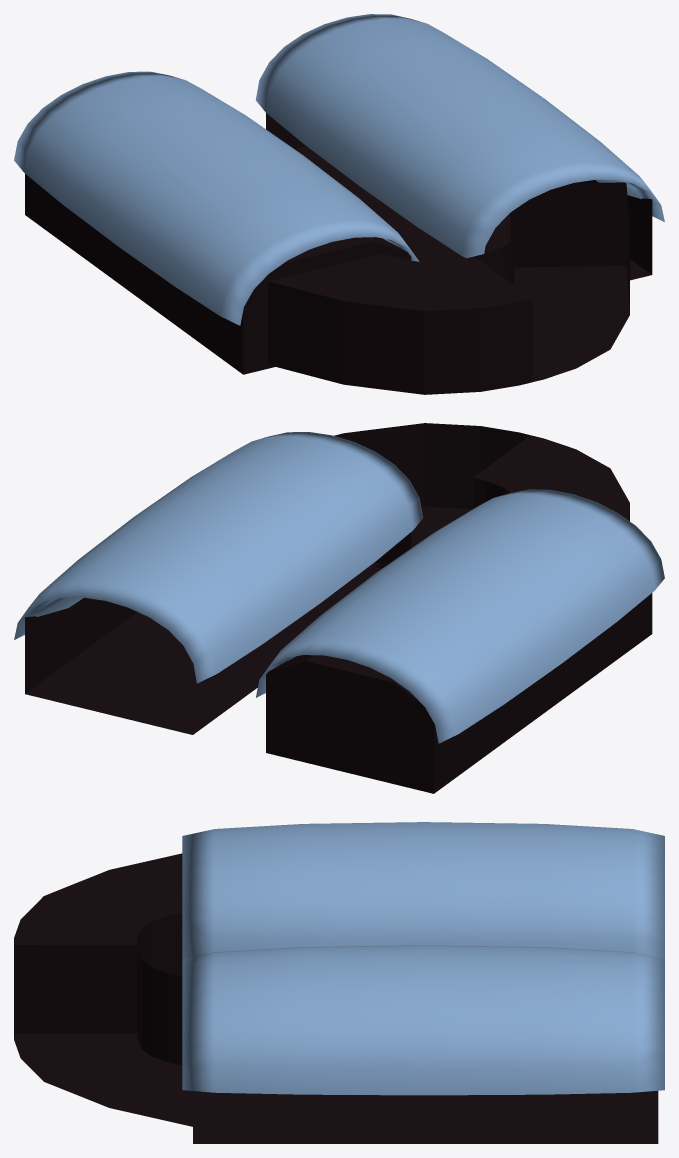
File: LargeWreck.glb
3 renders of one model, top to bottom at view 1: azimuth 30°, elevation 25°; view 2: azimuth 150°, elevation 25°; view 3: azimuth 270°, elevation 25°, orthographic. The views are drawn at different scales.
Visible parts, largest first — view 1: LargeWreck; view 2: LargeWreck; view 3: LargeWreck.
Part boxes in pixels (<box>): LargeWreck: <box>14,14,664,394</box>; LargeWreck: <box>14,423,664,793</box>; LargeWreck: <box>14,822,664,1143</box>.
Bounding box in the file's own units: 8.88 × 2.44 × 10.55.
